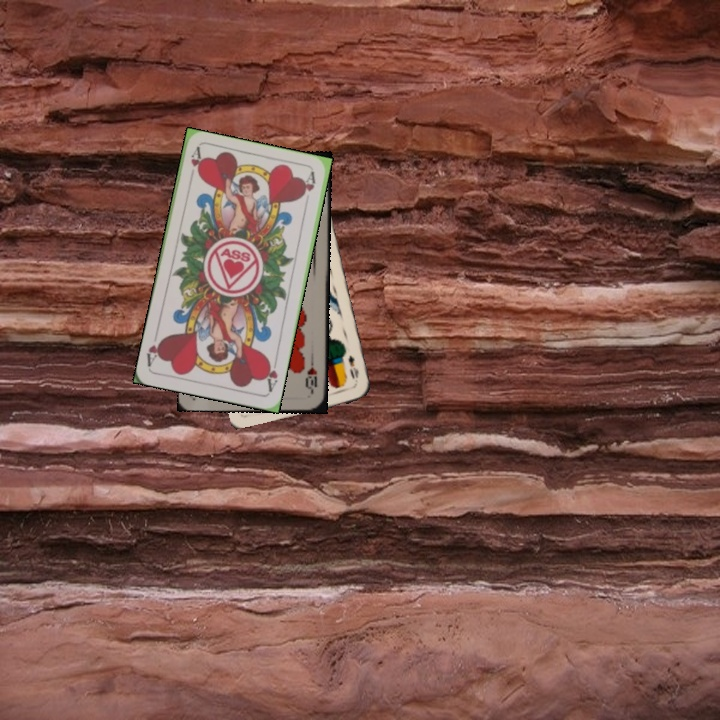EO: (344, 351, 361, 382)
H10: (302, 356, 320, 396)
HA: (261, 354, 280, 395), (187, 145, 204, 178)
